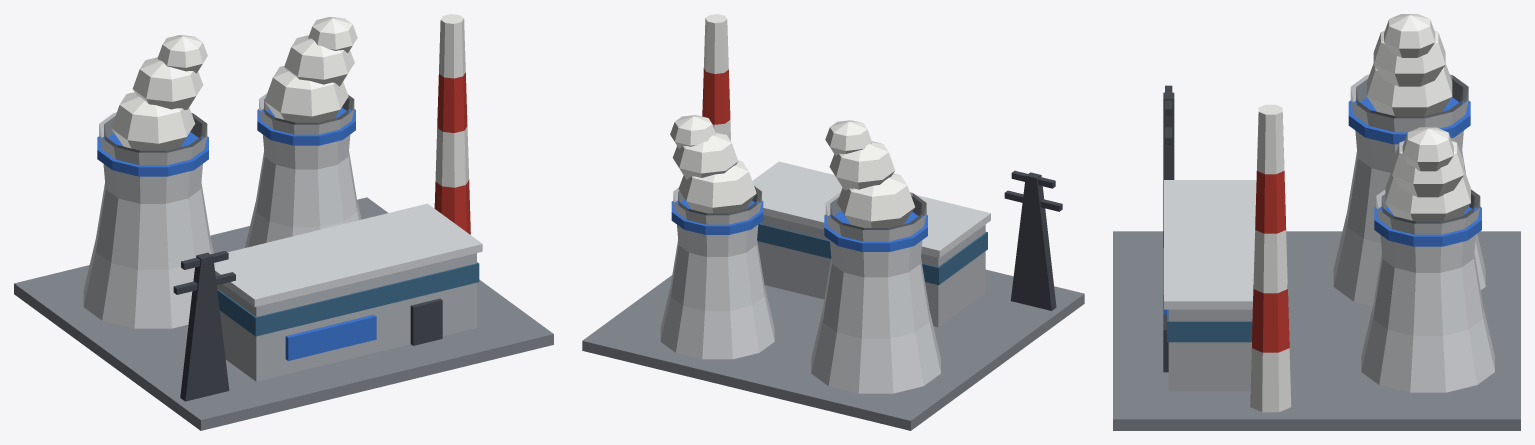
File: bld_powerplant.glb
The picture shows the model from 3 angles, left to right: view 1: azimuth 30°, elevation 25°; view 2: azimuth 150°, elevation 25°; view 3: azimuth 270°, elevation 25°; orthographic projection. The views are drawn at different scales.
Visible parts, largest first — view 1: bld_powerplant; view 2: bld_powerplant; view 3: bld_powerplant.
Boxes of the visible parts, box(x1,y1,x2,y2) form: bld_powerplant: box(14, 14, 553, 430); bld_powerplant: box(582, 14, 1084, 430); bld_powerplant: box(1113, 14, 1520, 430).
Size of the model in its own units: 0.48 by 0.364 by 0.44.
